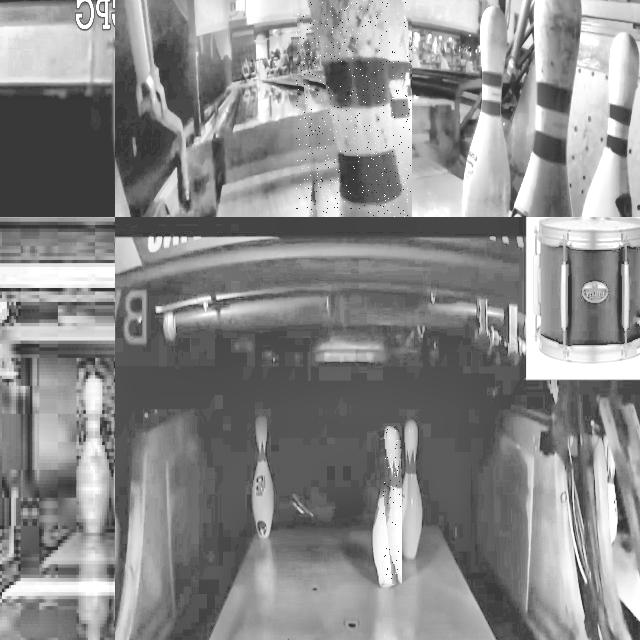bowling-pins: (302, 0, 402, 217), (77, 381, 109, 534), (398, 419, 422, 558), (383, 426, 401, 585), (252, 415, 273, 538)
